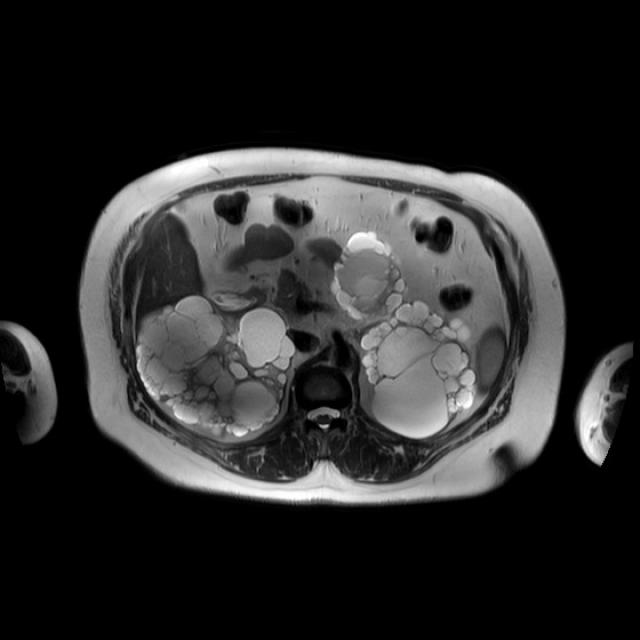sag: (137, 297, 292, 434)
sol: (334, 235, 477, 435)
